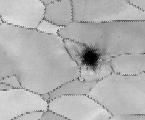good_void: (78, 46, 103, 72)
